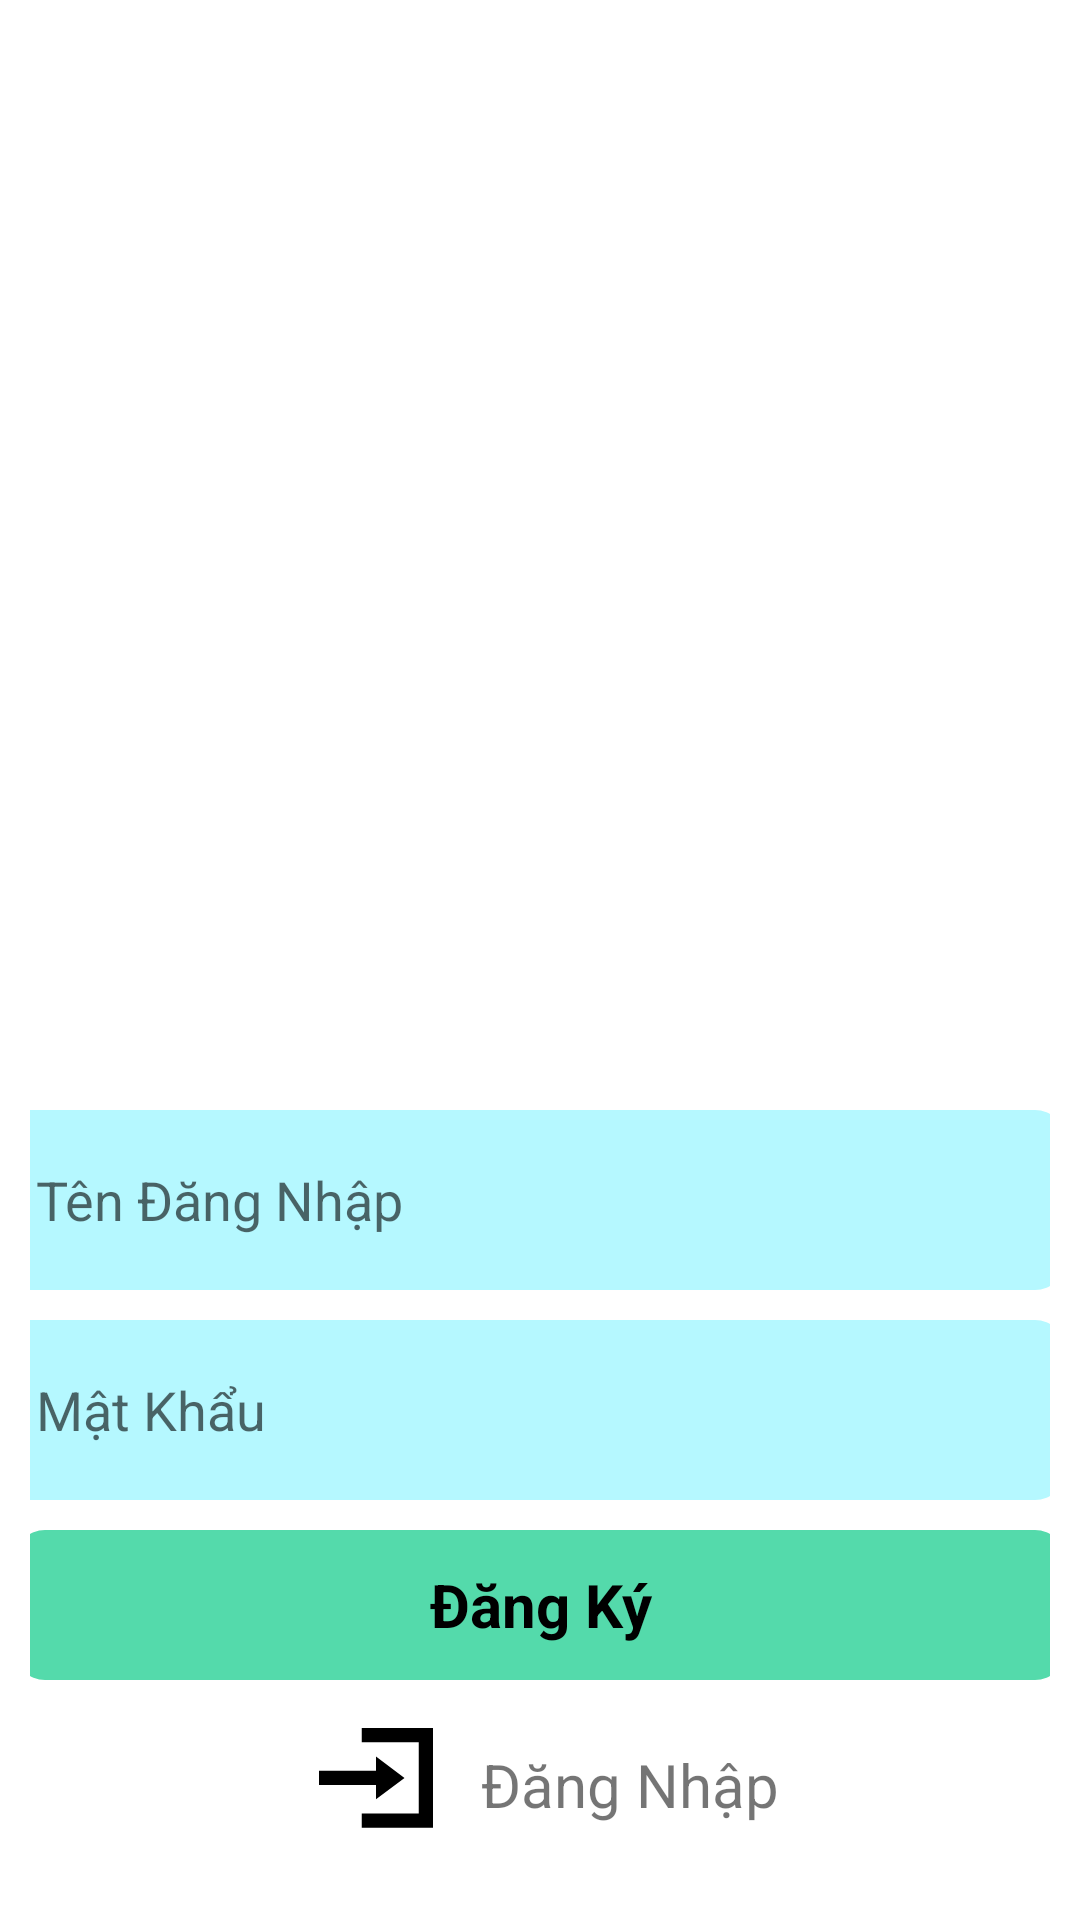

Icon bounding boxes for this 1080*1920 phone screenshot, format (x1, y1, x2, y2):
login: (319, 1728, 433, 1828)
